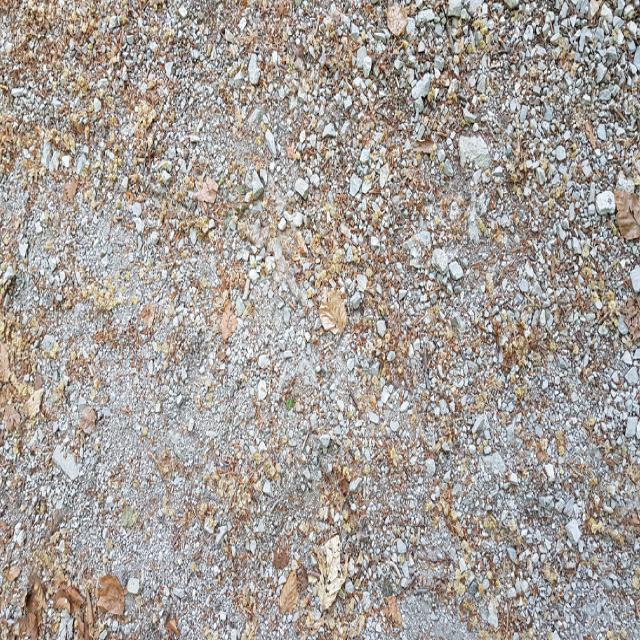rocks: (10, 470, 140, 633), (12, 590, 20, 600)
white-sand: (25, 342, 242, 597), (397, 594, 476, 639)
